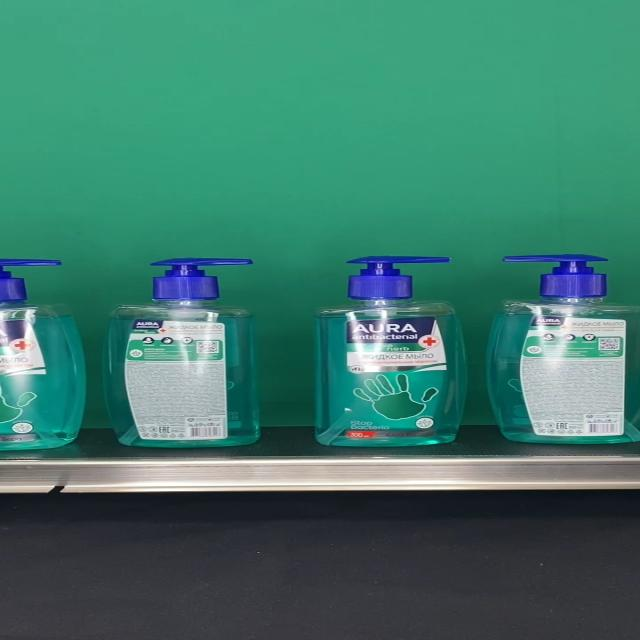Bottle: (104, 258, 260, 448), (314, 256, 468, 447), (487, 255, 640, 444)
Cap: (502, 255, 608, 298), (346, 257, 451, 299), (150, 258, 253, 300)
